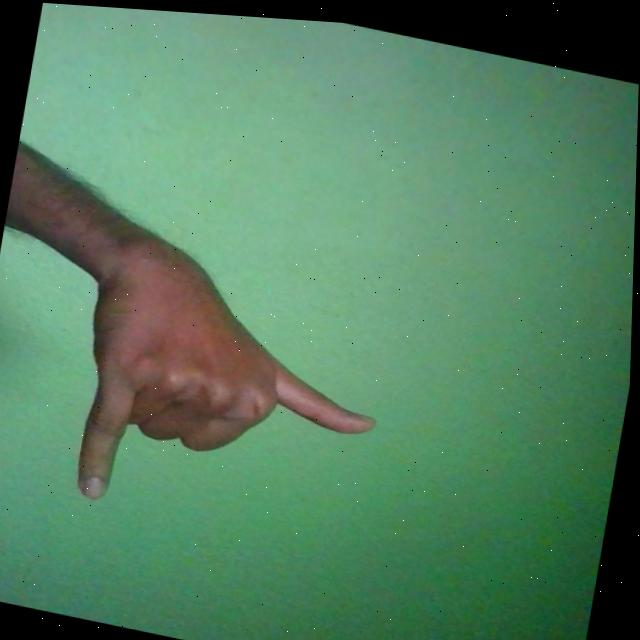Call Me: (60, 216, 406, 551)
